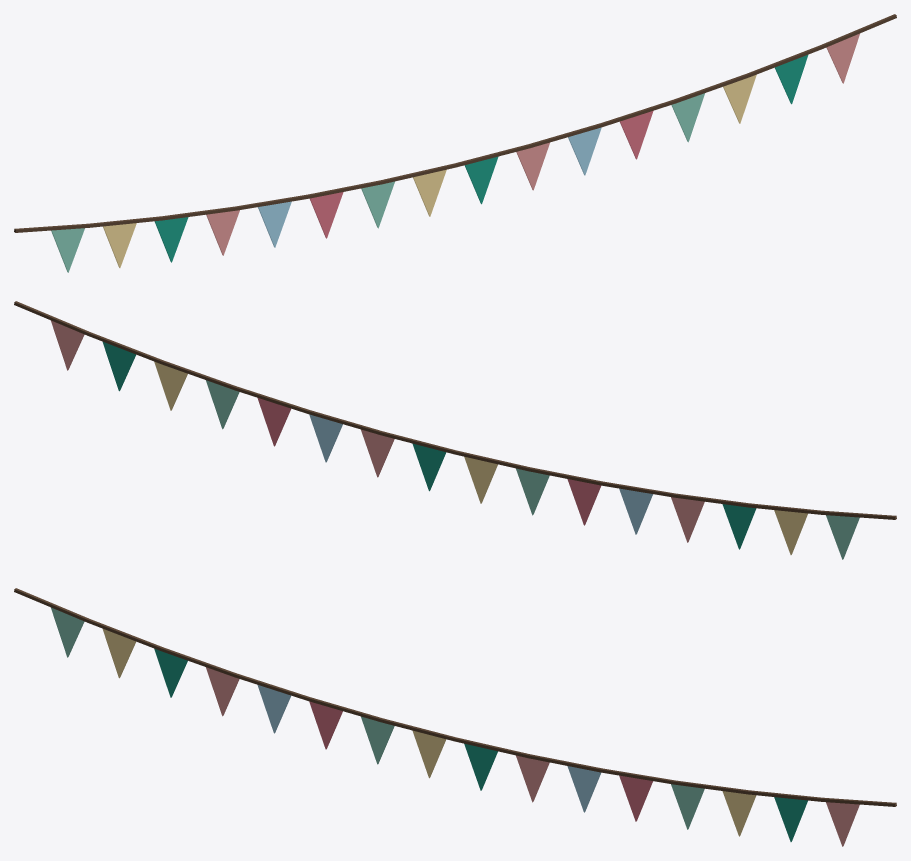
File: CatCafe_Square_Bunting.glb
3 views of the same model, one above another, from view 1: azimuth 30°, elevation 25°; view 2: azimuth 150°, elevation 25°; view 3: azimuth 330°, elevation 25° (orthographic).
Parts seen in each view (by area): view 1: CatCafe_Square_Bunting_Decor, CatCafe_Square_Bunting; view 2: CatCafe_Square_Bunting_Decor, CatCafe_Square_Bunting; view 3: CatCafe_Square_Bunting_Decor, CatCafe_Square_Bunting.
Boxes of the visible parts, x1=… form: CatCafe_Square_Bunting_Decor: x1=51, y1=33, x2=859, y2=272; CatCafe_Square_Bunting: x1=14, y1=14, x2=896, y2=232; CatCafe_Square_Bunting_Decor: x1=51, y1=320, x2=859, y2=559; CatCafe_Square_Bunting: x1=14, y1=301, x2=896, y2=519; CatCafe_Square_Bunting_Decor: x1=51, y1=607, x2=859, y2=846; CatCafe_Square_Bunting: x1=14, y1=588, x2=896, y2=806.
Size of the model in its own units: 22.06 by 2.11 by 0.07.
1 material, 1 textured.
